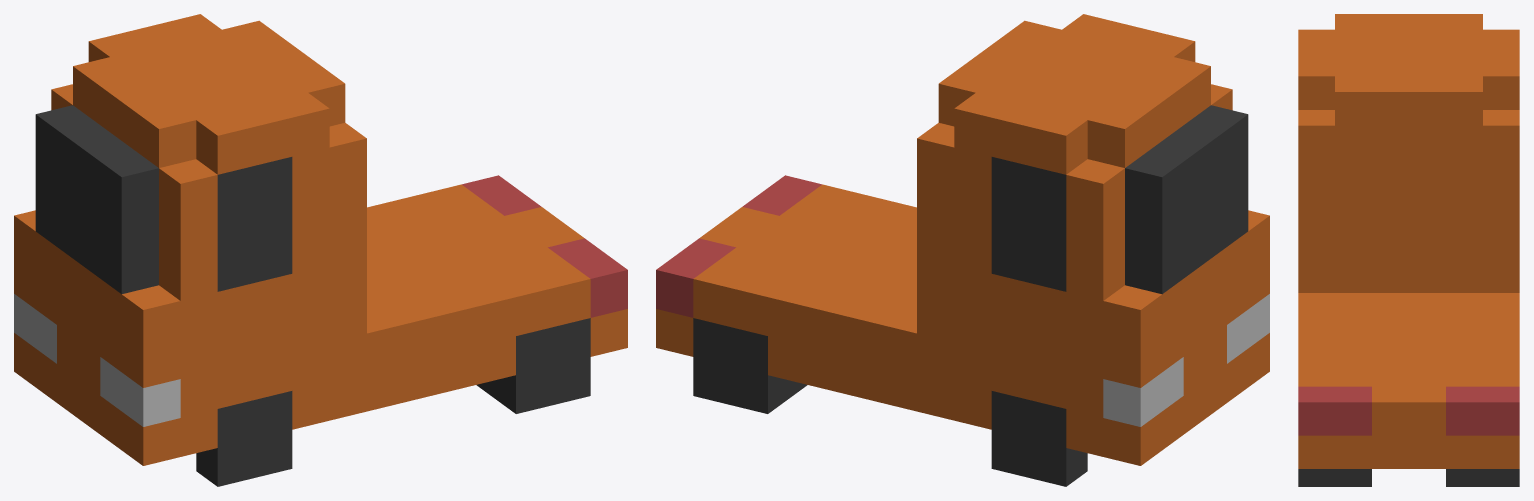
The model's file is truck-v2-orange.gltf.
3 renders of one model, left to right at view 1: azimuth 30°, elevation 25°; view 2: azimuth 150°, elevation 25°; view 3: azimuth 270°, elevation 25°, orthographic. The views are drawn at different scales.
Visible parts, largest first — view 1: model, wheels; view 2: model, wheels; view 3: model, wheels.
Boxes of the visible parts, x1,y1,x2,y2 form: model: [14, 14, 627, 465]; wheels: [196, 318, 590, 486]; model: [656, 14, 1269, 465]; wheels: [693, 318, 1087, 486]; model: [1298, 14, 1519, 468]; wheels: [1298, 469, 1519, 486].
Bounding box in the file's own units: 1.3 × 0.9 × 0.6.
Materials: 2 (2 with a texture image).
